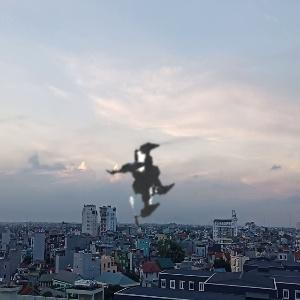drone: (20, 47, 270, 297)
